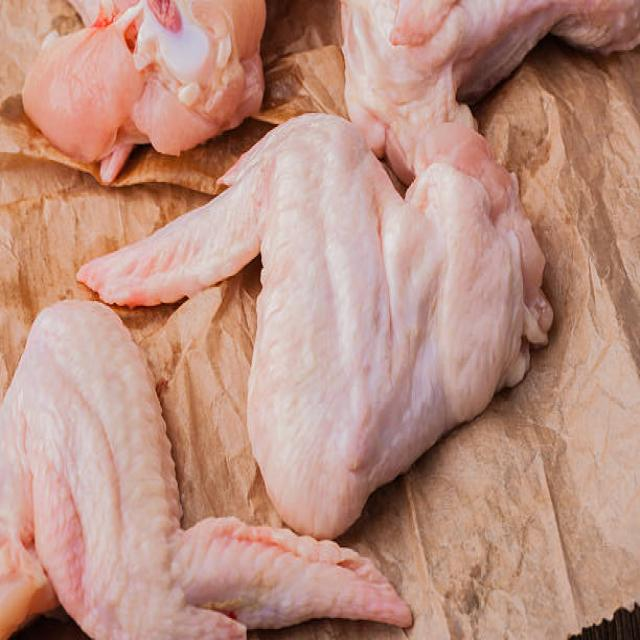chicken: (93, 115, 541, 493), (0, 304, 272, 640)
